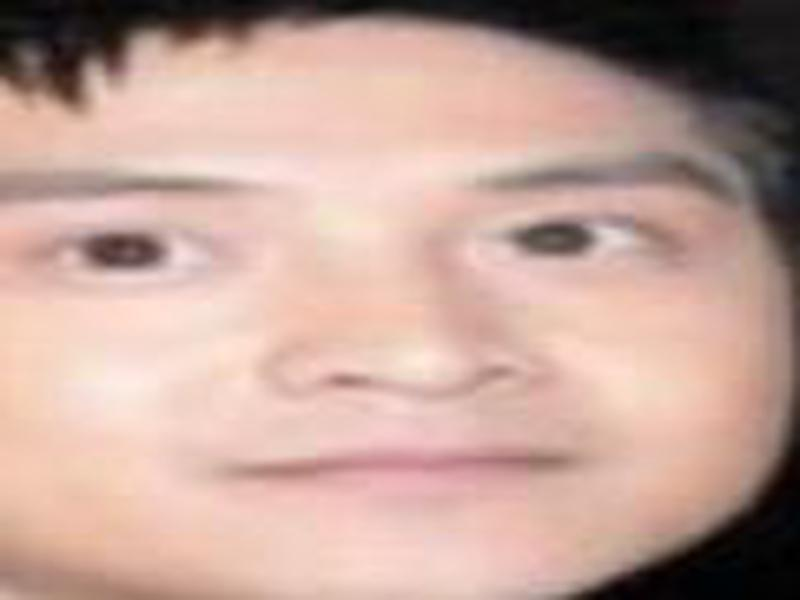without_mask: (4, 33, 800, 600)
